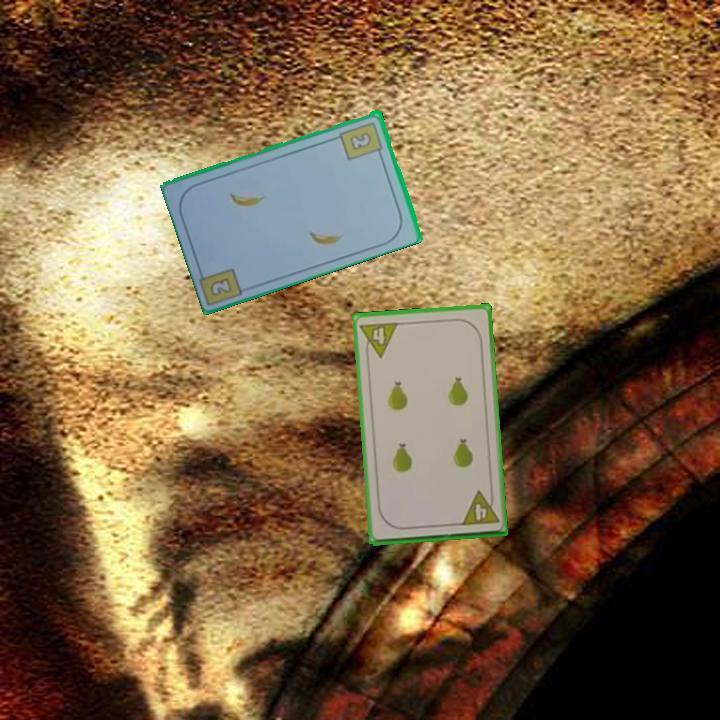2b: (336, 118, 386, 163), (207, 274, 235, 299)
4p: (357, 318, 401, 361), (457, 487, 502, 528)
